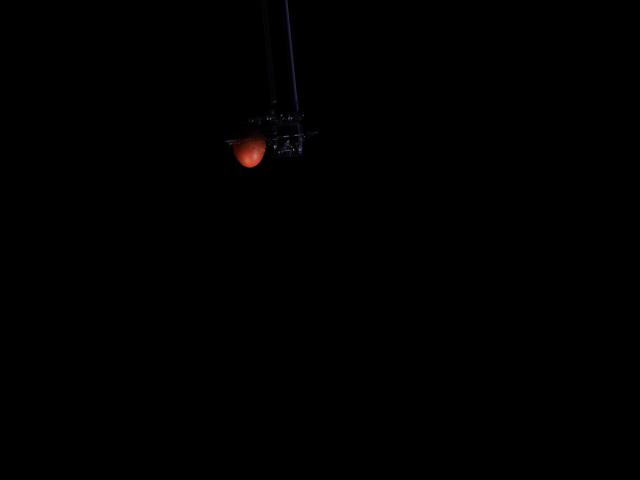egg: (228, 120, 267, 168)
